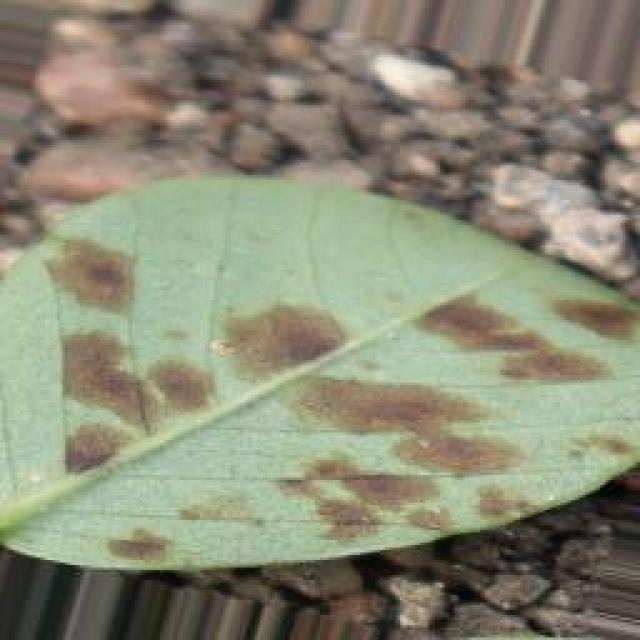Whitefly: (31, 146, 640, 561)
